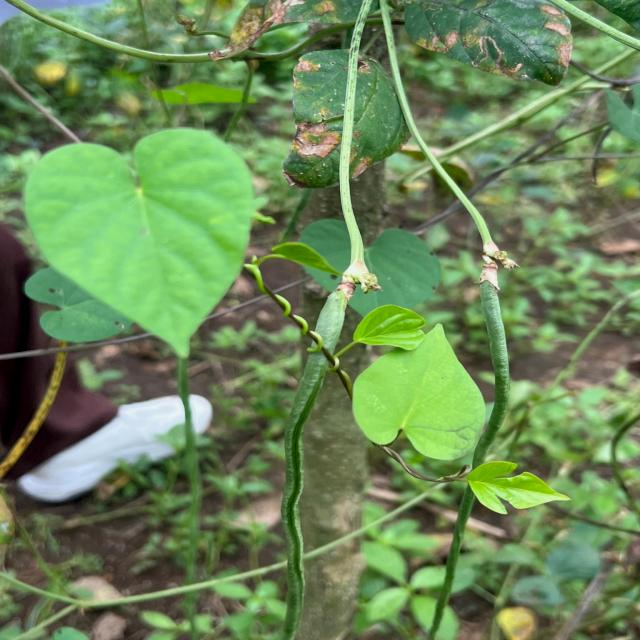10: (280, 290, 347, 640), (429, 482, 477, 640), (472, 278, 510, 470)
leaf-moderate: (392, 0, 573, 86), (283, 49, 348, 188), (349, 54, 411, 182)
